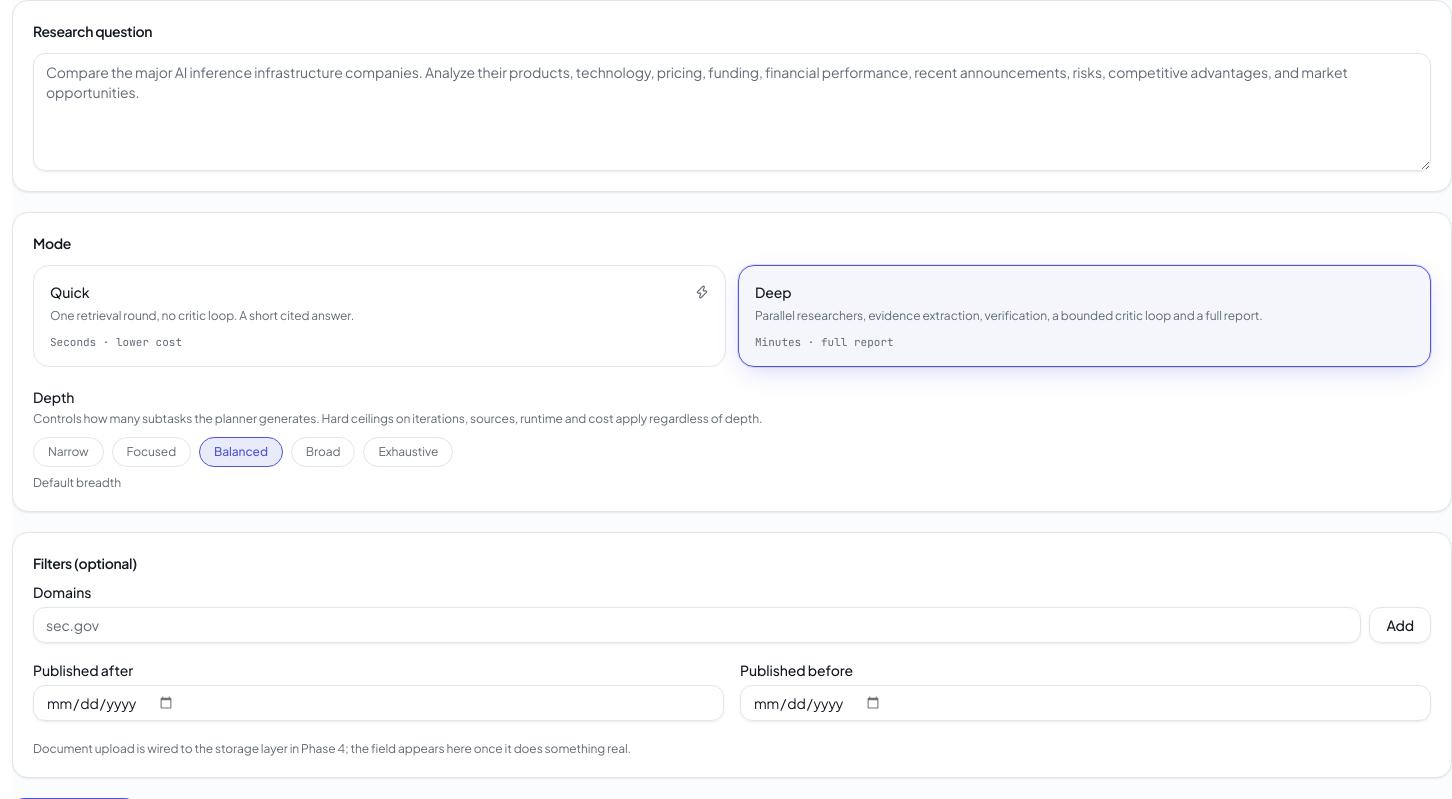
it: NewResearchForm › normalises a pasted URL into a bare domain filter
This screenshot has width=1452, height=799.
Type "https://www.sec.gov/edgar" into the field with test id "domain-input" at {"x": 697, "y": 625}, box [33,607,1361,643]
Then press Enter
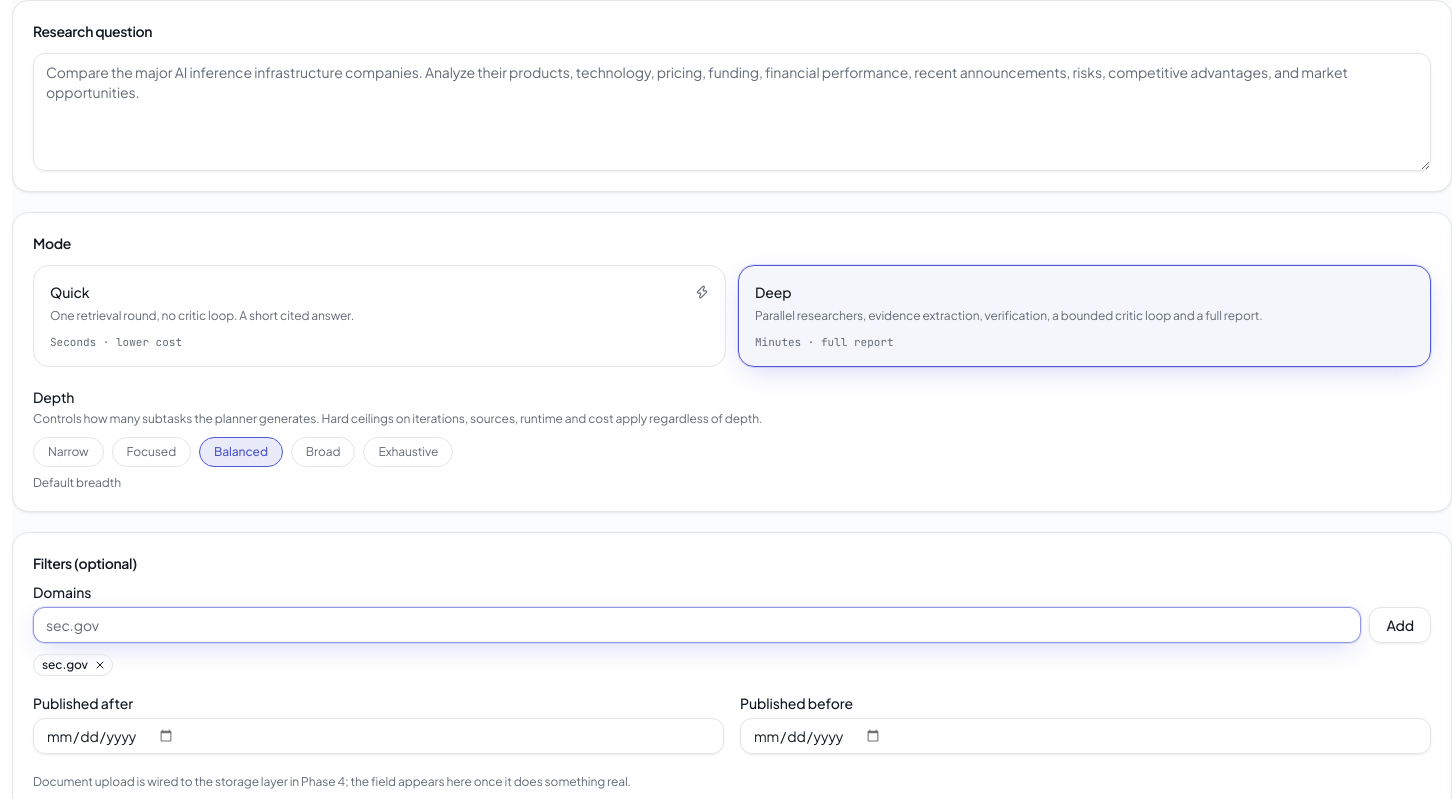
Result: the text "sec.gov" is shown at [33,654,113,676]
